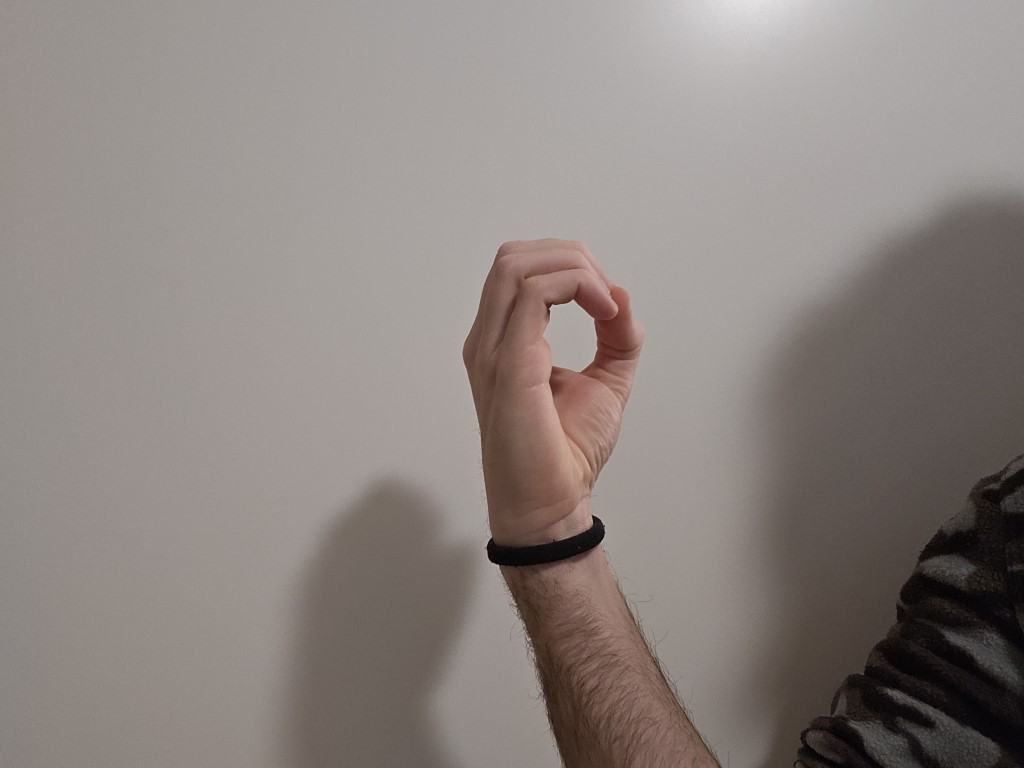o: (411, 222, 686, 511)
